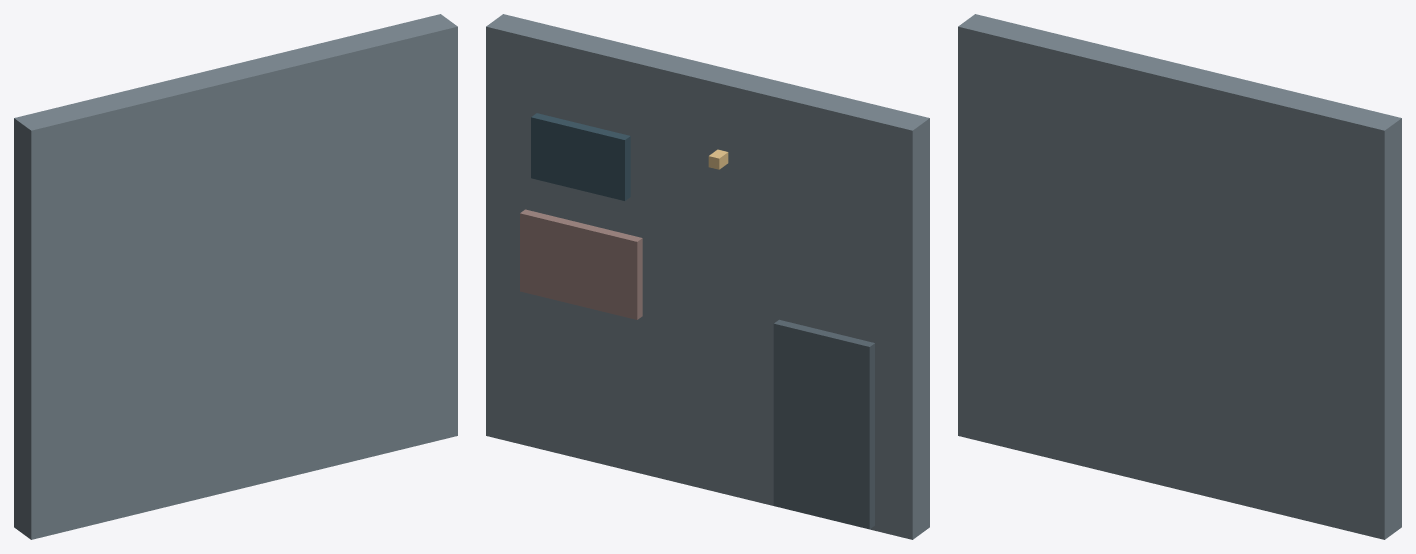
File: la-city-alley-wall.glb
3 renders of one model, left to right at view 1: azimuth 30°, elevation 25°; view 2: azimuth 150°, elevation 25°; view 3: azimuth 330°, elevation 25°, orthographic.
Visible parts, largest first — view 1: la-city-alley-wall; view 2: la-city-alley-wall; view 3: la-city-alley-wall.
Part boxes in pixels (x1,y1,x2,y2): la-city-alley-wall: [14, 14, 457, 539]; la-city-alley-wall: [486, 14, 929, 539]; la-city-alley-wall: [958, 14, 1401, 539].
Size of the model in its own units: 6 by 5.5 by 0.67.
